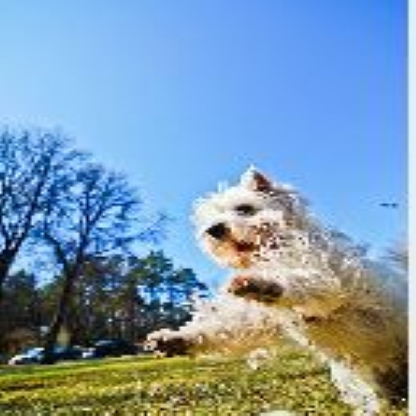maltese: (150, 172, 409, 390)
